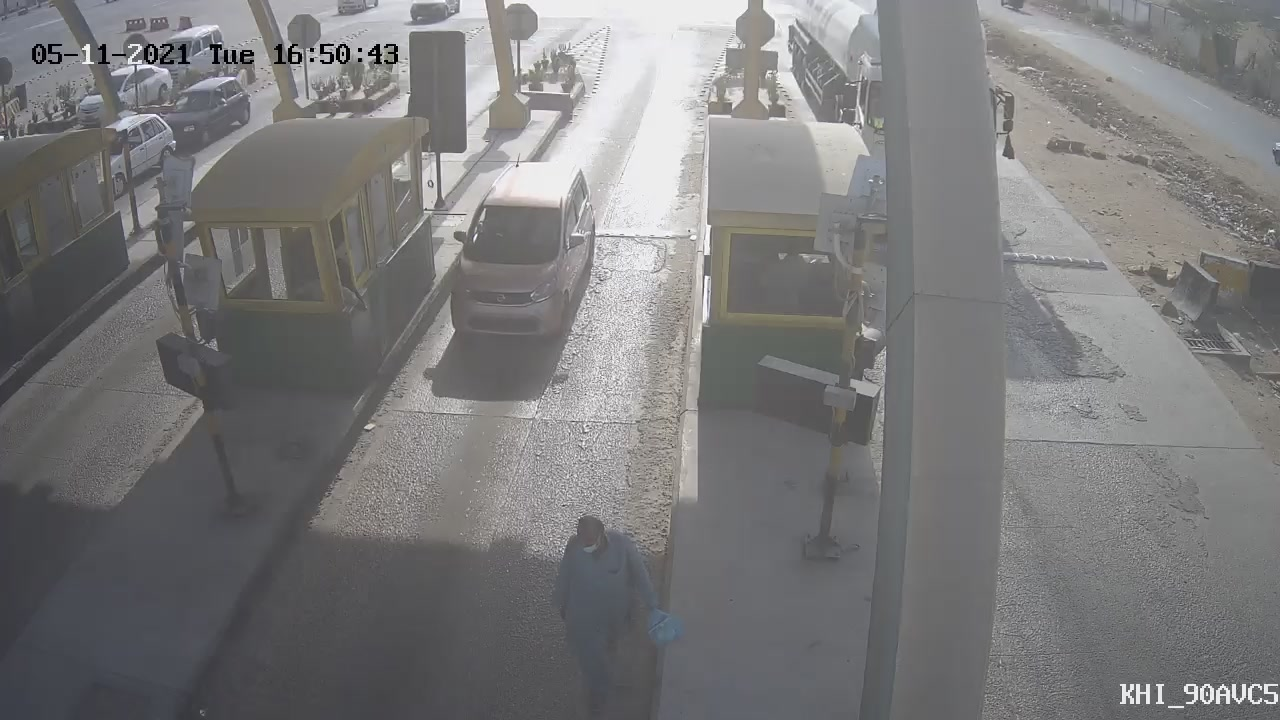F1: (430, 144, 618, 362)
